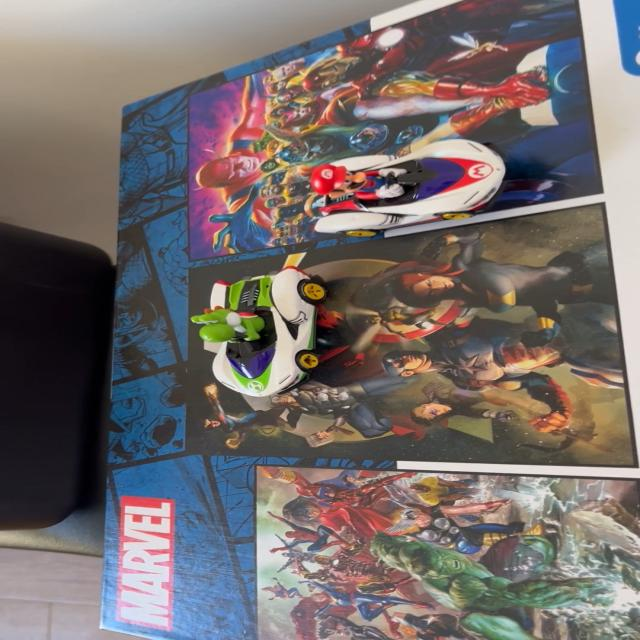mario: (292, 132, 523, 236)
yoshi: (184, 260, 342, 412)
